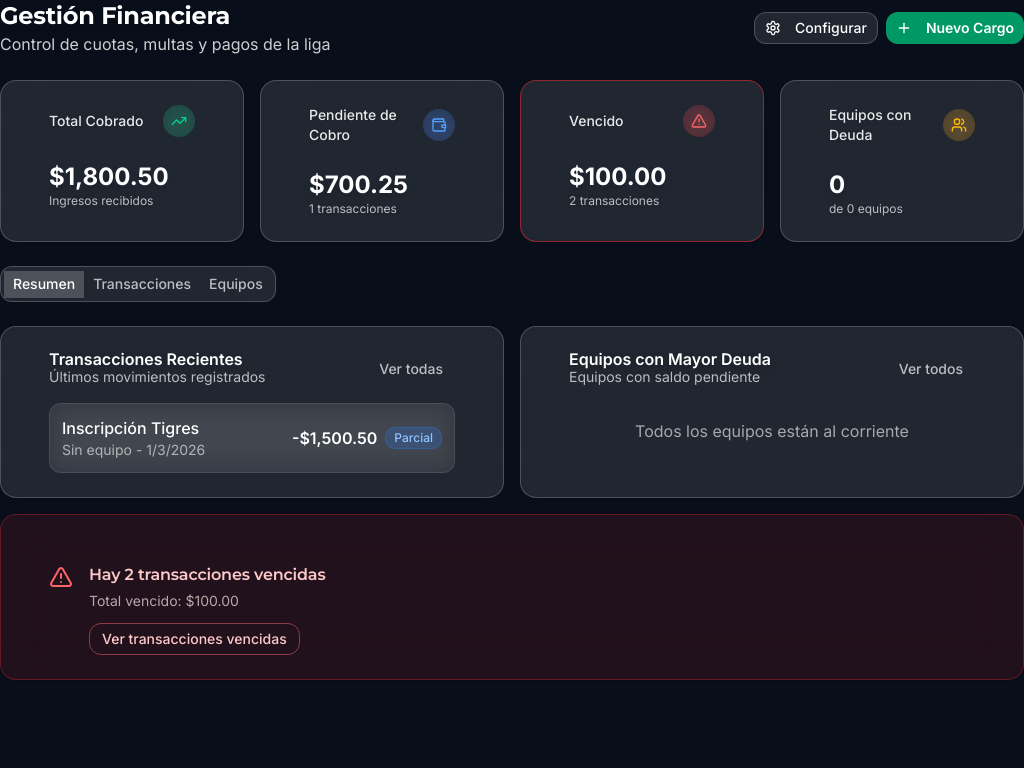
Test: Finance parity: payment dialog › sends nothing when the dialog is cancelled
What coordinates should you click on to do the following:
click the tab "Transacciones"
I would click on:
 (142, 284)
Its box is [84,270,200,298].
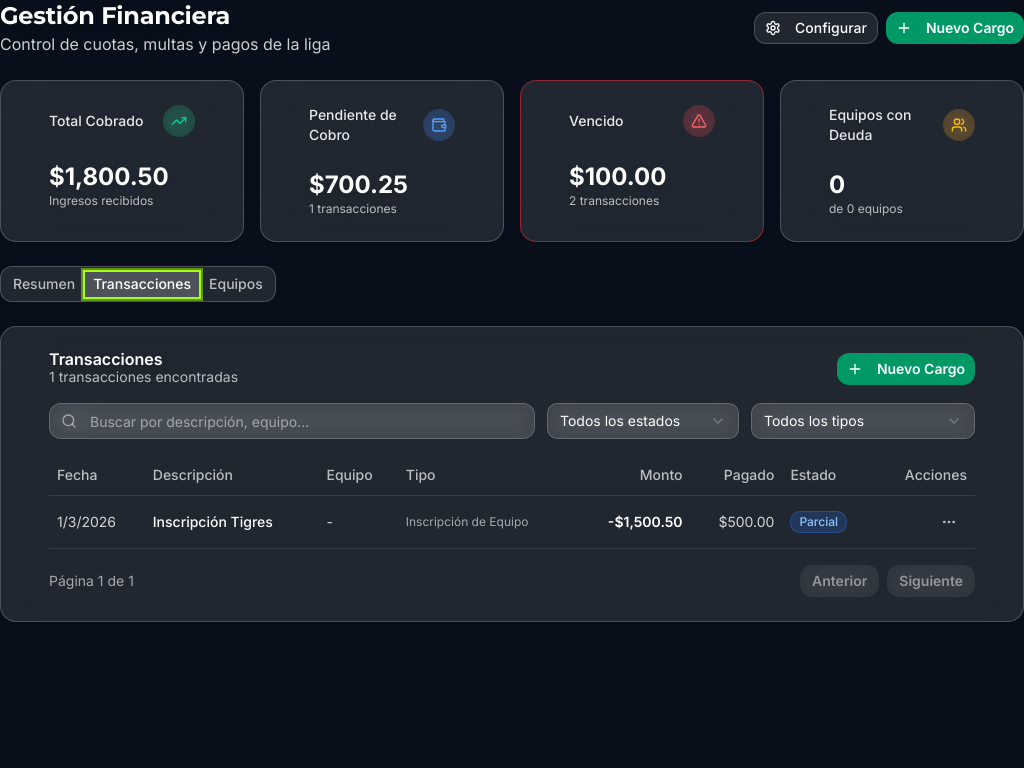
What coordinates should you click on to do the following:
click the button named "Acciones de Inscripción Tigres"
I would click on:
 (949, 522)
Its box is [931,504,967,540].
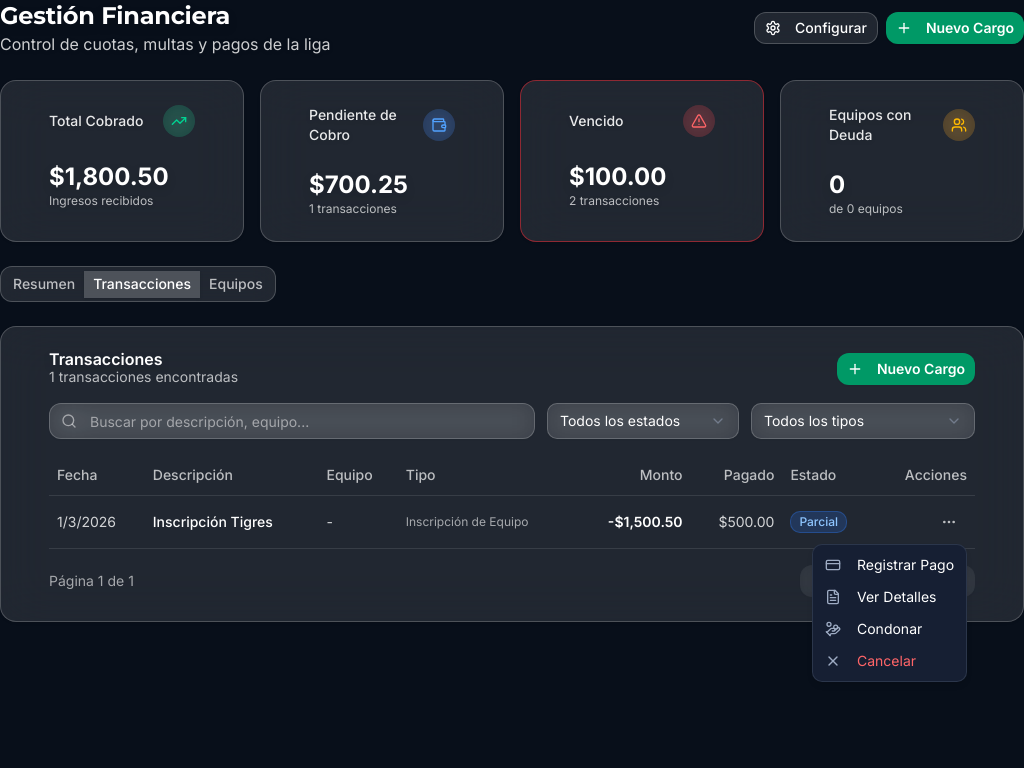
What coordinates should you click on to do the following:
click the menu item "Registrar Pago"
I would click on:
 (890, 564)
Its box is [825,556,954,573].
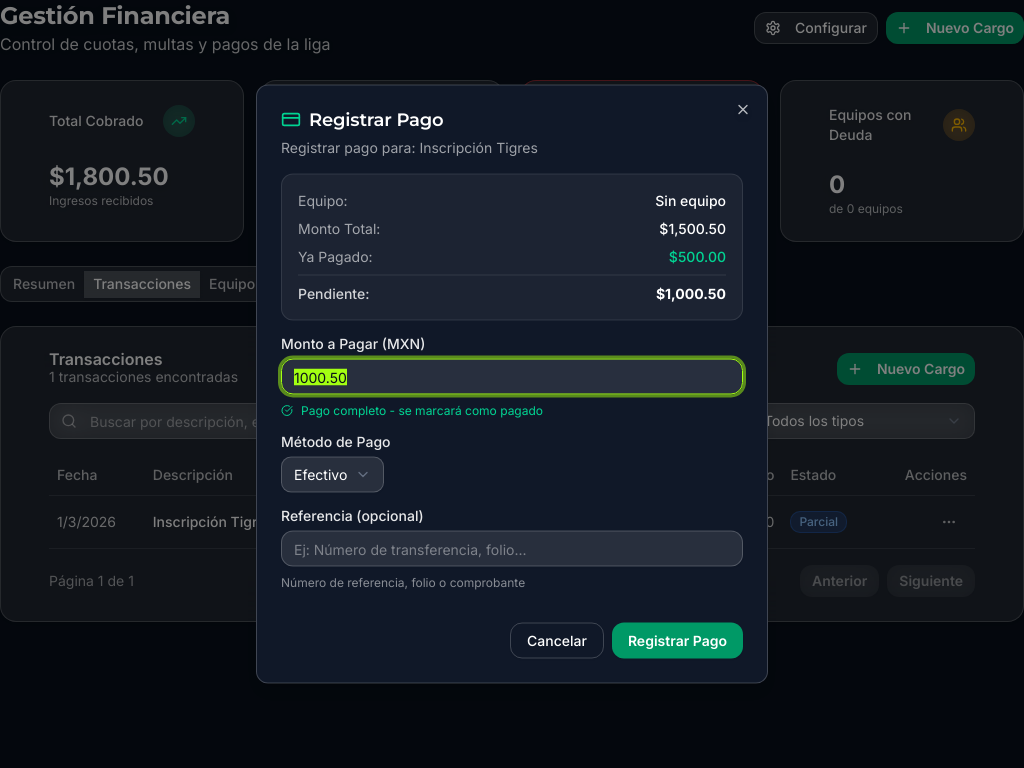
What coordinates should you click on to do the following:
click the button "Cancelar"
I would click on:
 (557, 640)
Its box is [510,622,604,658].
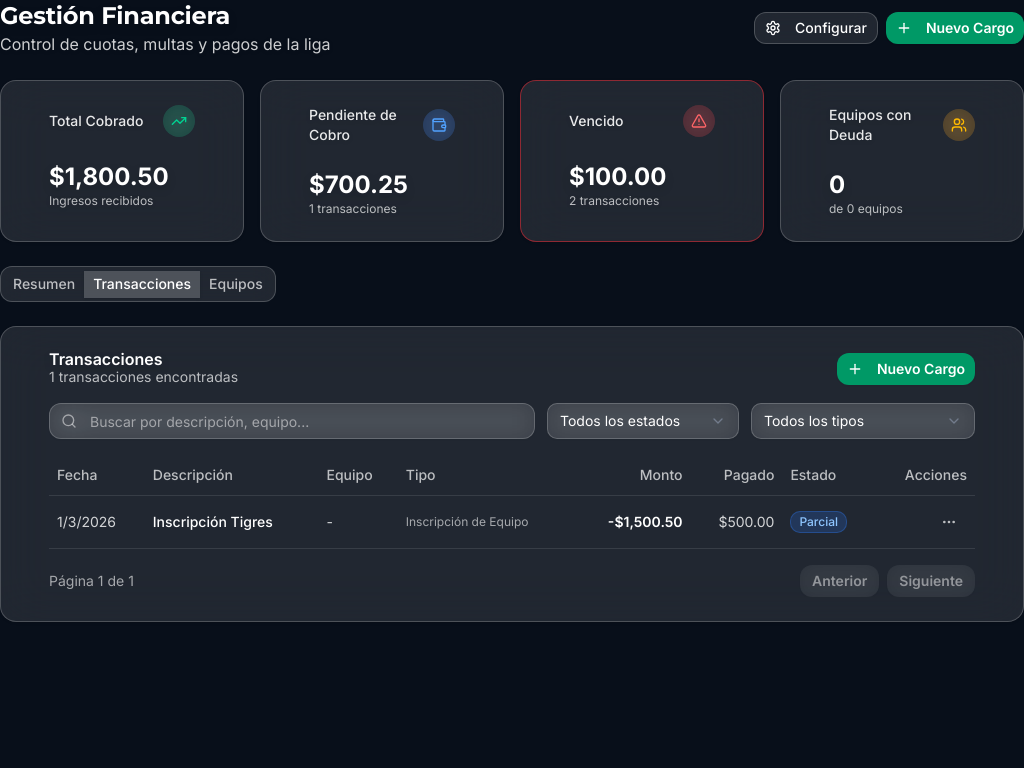
expect the dialog is gone: met
